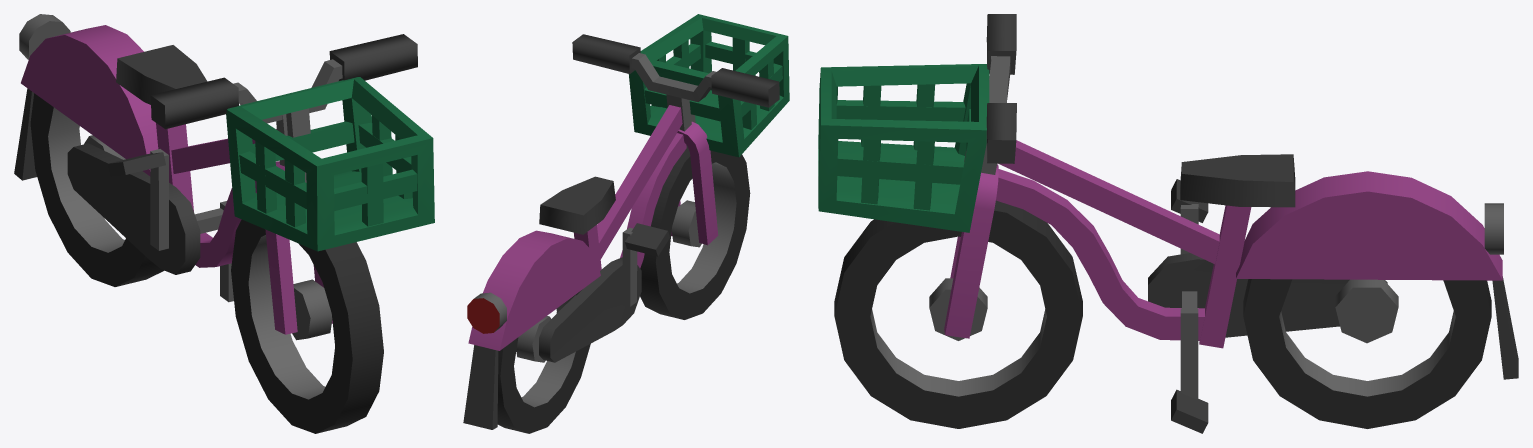
File: bicycle_v2.fbx
3 renders of one model, left to right at view 1: azimuth 30°, elevation 25°; view 2: azimuth 150°, elevation 25°; view 3: azimuth 270°, elevation 25°, orthographic. The views are drawn at different scales.
Visible parts, largest first — view 1: bicycle_v2; view 2: bicycle_v2; view 3: bicycle_v2.
Part boxes in pixels (bbox=[...]): bicycle_v2: bbox=[14, 14, 434, 433]; bicycle_v2: bbox=[463, 14, 789, 433]; bicycle_v2: bbox=[818, 14, 1518, 433].
Bounding box in the file's own units: 67.77 × 86.37 × 160.
